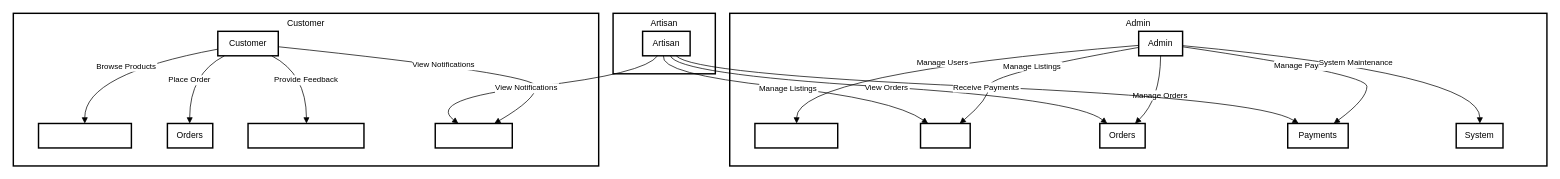
Some shapes in this 1560 by 179 pixel diagram are drawn without their labels. The centre of each missing label's shape, as x and y in pixels:
Feedback & Reviews: point (305, 135)
Listings: point (945, 135)
Notifications: point (473, 135)
Product Listings: point (84, 135)
User Accounts: point (796, 135)
